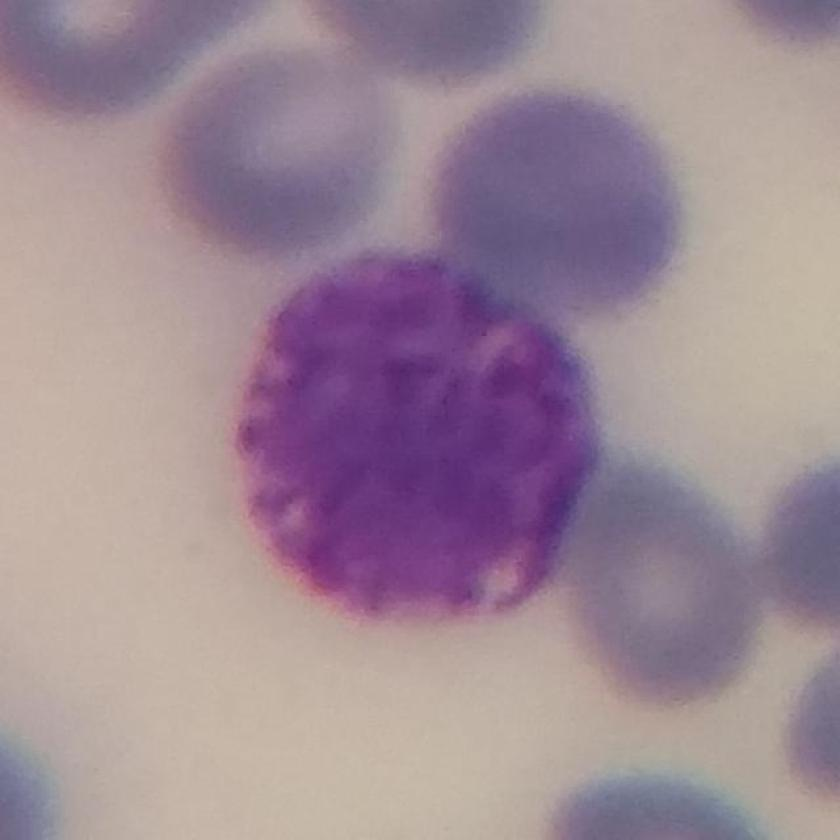basophil: (227, 236, 617, 635)
